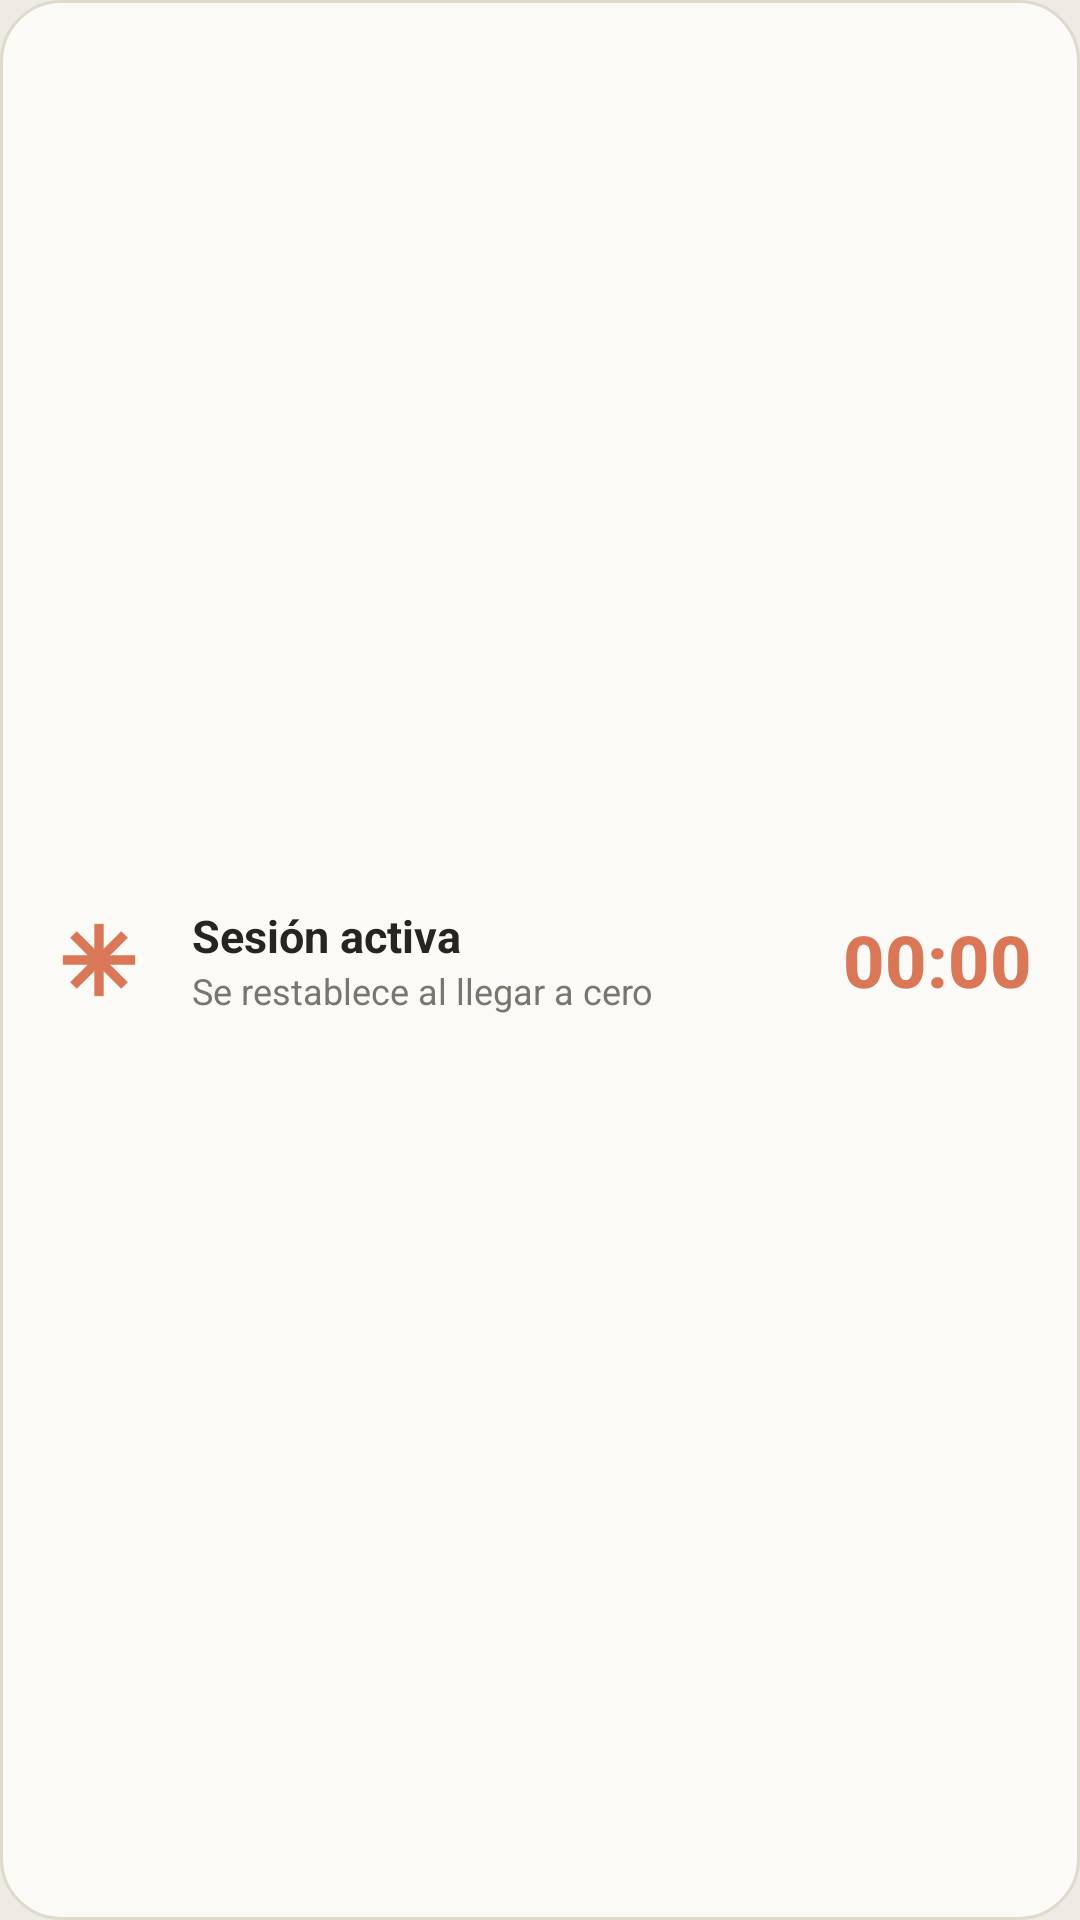

Icons on this 1080*1920 Android screen, each with its box as (x1, y1, x2, y2):
asterisk: (63, 924, 135, 996)
